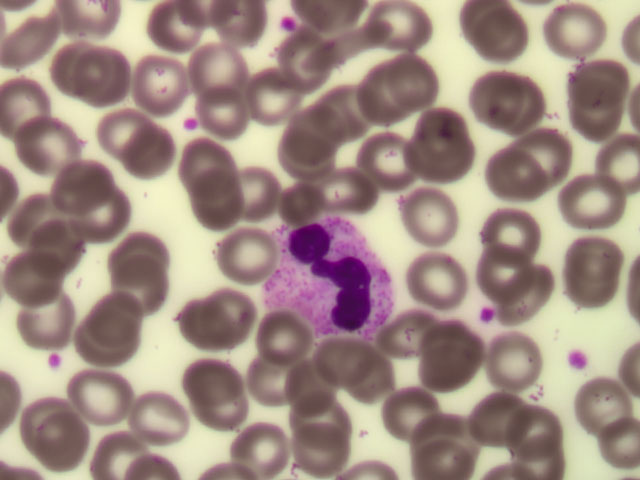Platelets: (561, 347, 592, 371), (44, 350, 70, 369), (184, 113, 199, 136), (476, 305, 493, 324), (278, 12, 297, 28)
RBC: (48, 39, 105, 97), (78, 47, 135, 105), (21, 119, 78, 177), (59, 152, 116, 210), (8, 185, 65, 243), (34, 218, 91, 276), (9, 241, 66, 299), (72, 195, 129, 253), (20, 279, 77, 337), (78, 322, 135, 380), (87, 293, 144, 351), (108, 253, 165, 311), (117, 233, 174, 291), (126, 127, 183, 185), (102, 108, 159, 166), (126, 52, 183, 110), (134, 1, 191, 59), (193, 35, 250, 93), (204, 87, 261, 145), (170, 143, 227, 201), (185, 178, 242, 236), (231, 161, 288, 219), (222, 227, 279, 285), (206, 286, 263, 344), (177, 300, 234, 358), (182, 342, 239, 400), (191, 374, 248, 432), (133, 390, 190, 448), (76, 367, 133, 425), (39, 415, 96, 473), (16, 395, 73, 453), (93, 422, 150, 480), (231, 422, 288, 480), (286, 422, 343, 480), (294, 389, 351, 447), (282, 357, 339, 415), (249, 355, 306, 413), (254, 307, 311, 365), (319, 331, 376, 389), (341, 351, 398, 409), (384, 384, 441, 442), (419, 409, 476, 467), (459, 389, 516, 447), (499, 402, 556, 460), (494, 336, 551, 394), (425, 346, 482, 404), (420, 316, 477, 374), (393, 302, 450, 360), (409, 252, 466, 310), (402, 185, 459, 243), (363, 131, 420, 189), (403, 138, 460, 196), (420, 112, 477, 170), (399, 56, 456, 114), (351, 65, 408, 123), (322, 79, 379, 137), (285, 103, 342, 161), (254, 69, 311, 127), (273, 32, 330, 90), (378, 5, 435, 63), (472, 5, 529, 63), (567, 45, 624, 103), (572, 96, 629, 154), (568, 178, 625, 236), (477, 147, 534, 205), (527, 128, 584, 186), (505, 77, 562, 135), (478, 71, 535, 129), (487, 198, 544, 256), (473, 239, 530, 297), (502, 262, 559, 320), (565, 219, 622, 277), (558, 267, 615, 325), (571, 375, 628, 433), (583, 421, 640, 479), (547, 1, 604, 58), (1, 77, 57, 135)
WBC: (268, 218, 396, 338)
